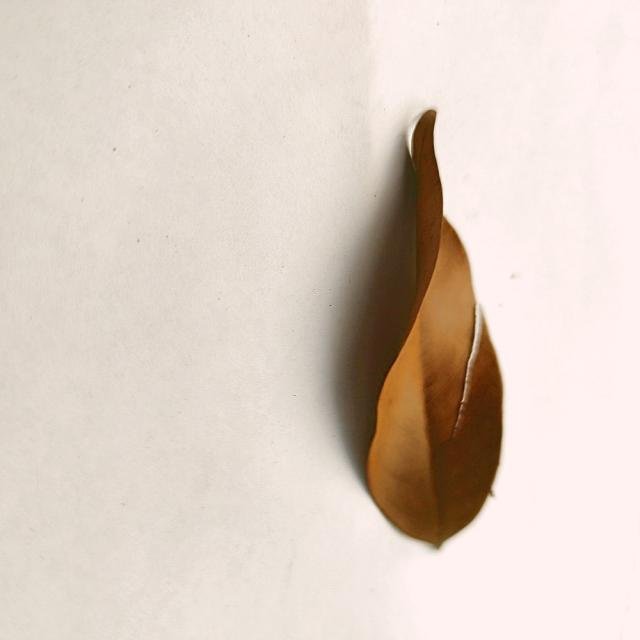Dry_Leaf-Lychee: (367, 110, 504, 551)
